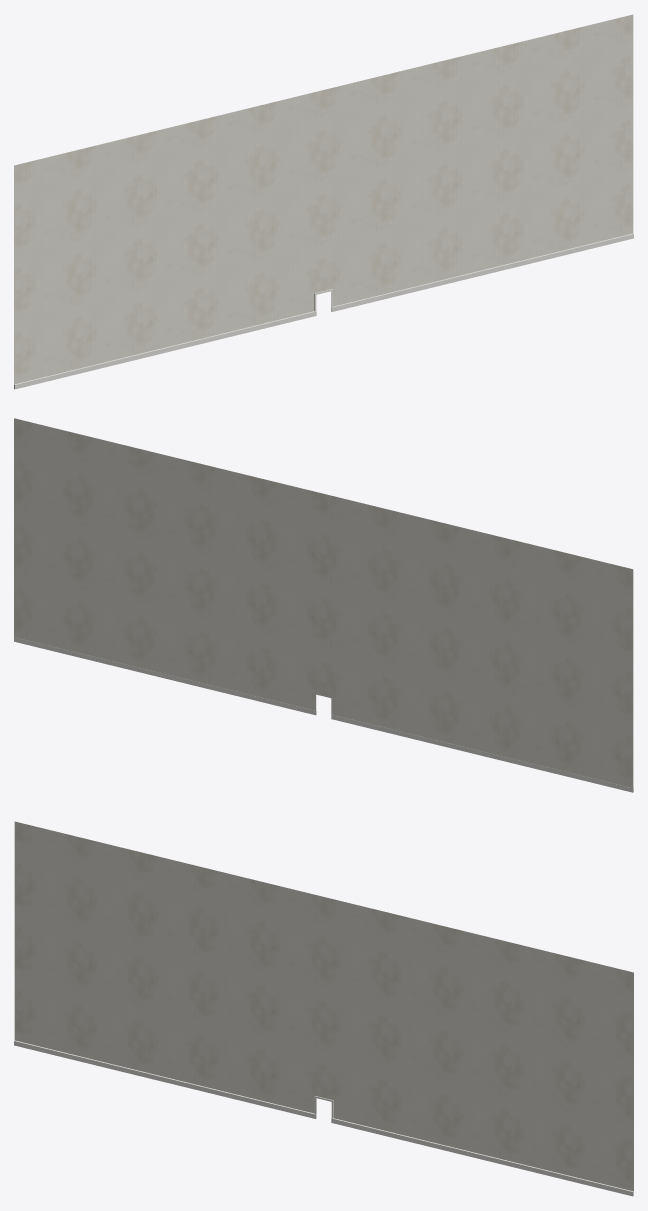
Rendered from wall20_vent.gltf.
The picture shows the model from 3 angles, top to bottom: view 1: azimuth 30°, elevation 25°; view 2: azimuth 150°, elevation 25°; view 3: azimuth 330°, elevation 25°; orthographic projection.
Visible parts, largest first — view 1: jx_w20_vent; view 2: jx_w20_vent; view 3: jx_w20_vent.
Part boxes in pixels (box(x1,y1,x2,y2)): jx_w20_vent: box(14, 14, 633, 389); jx_w20_vent: box(14, 418, 633, 792); jx_w20_vent: box(14, 821, 633, 1196).
Bounding box in the file's own units: 20.3 × 7 × 0.05.
2 materials, 2 textured.
